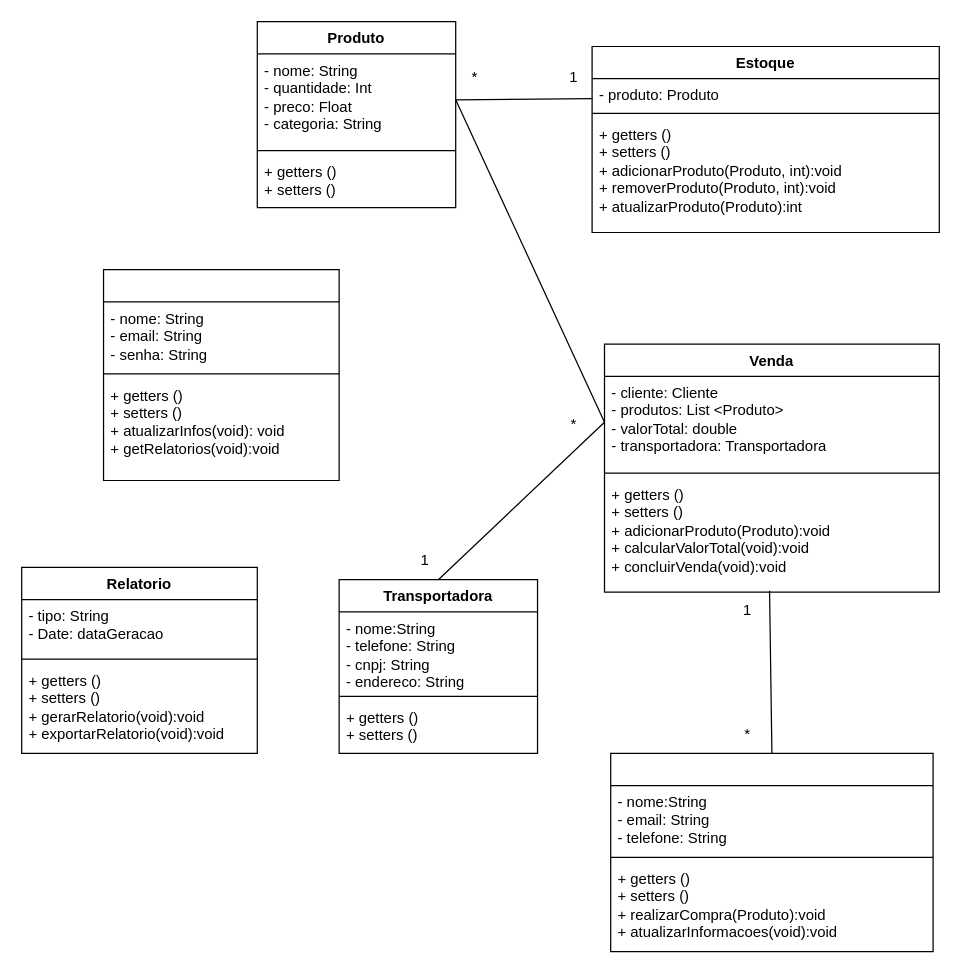
Image size: 961x977. Some labels were removed from this diagram. The box of each missing label's shape, as (x1, y1, x2, y2) in pixels:
Cliente: (609, 752, 933, 952)
Gerente: (102, 268, 339, 480)
